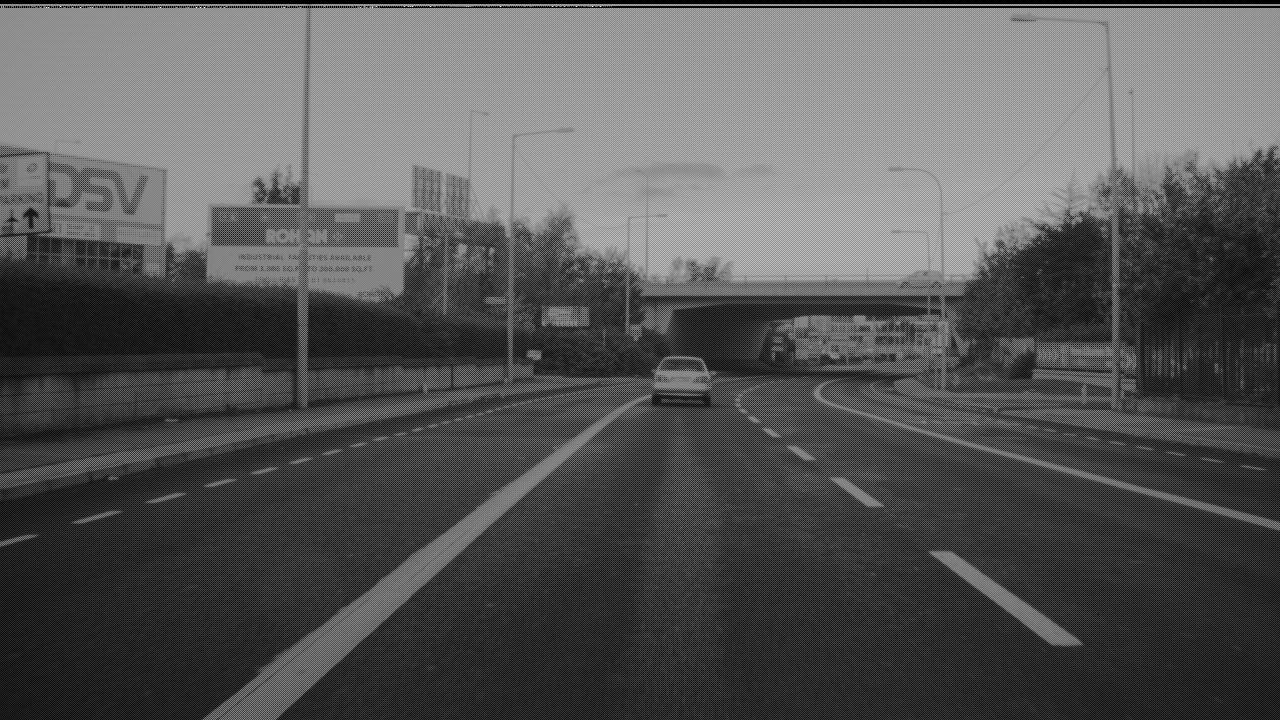pole: (962, 1, 986, 409), (158, 21, 177, 413), (763, 131, 777, 385), (335, 178, 345, 392), (650, 216, 656, 336)
